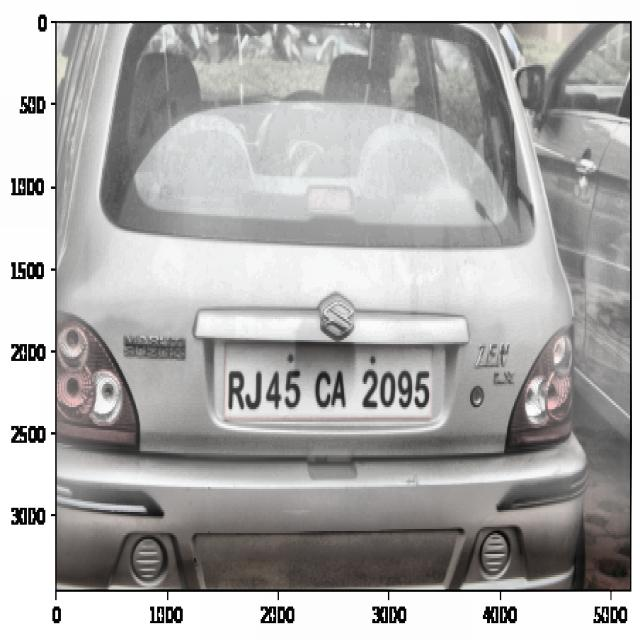license_plate: (221, 353, 434, 425)
